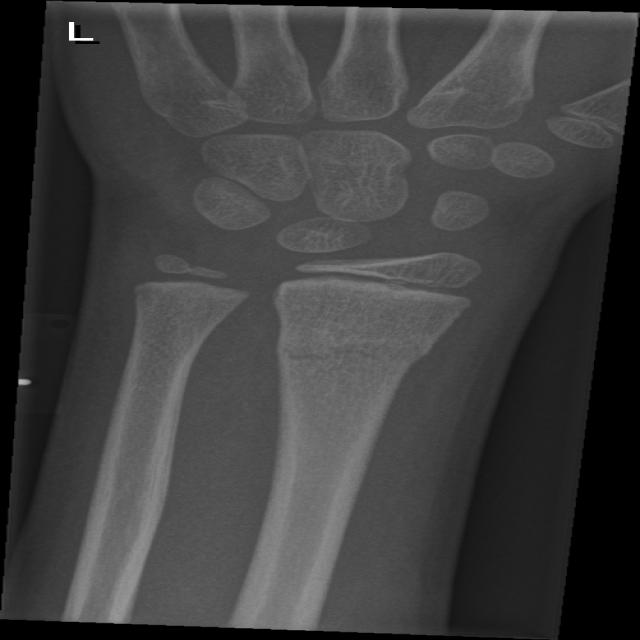radius fracture: (266, 306, 447, 422)
